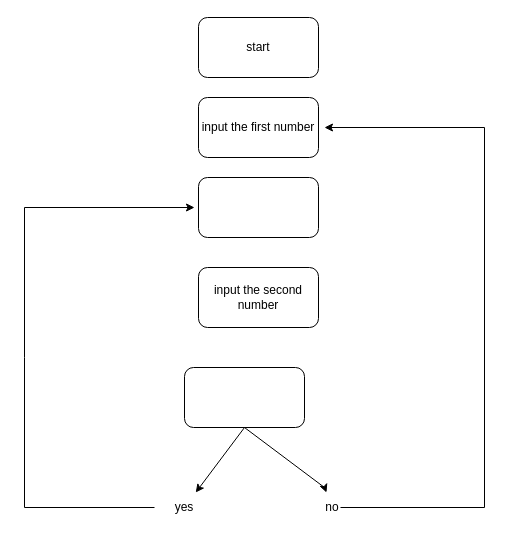
Image size: 510x540. Some labels were removed from this diagram. Here are the shapes that lost their labels. From the top down, the centre of each, then its label:
At pixel 258 207: "enter operation +,-,/,*".
At pixel 244 397: "output, type y to continue with output,type n for the new calculation".
